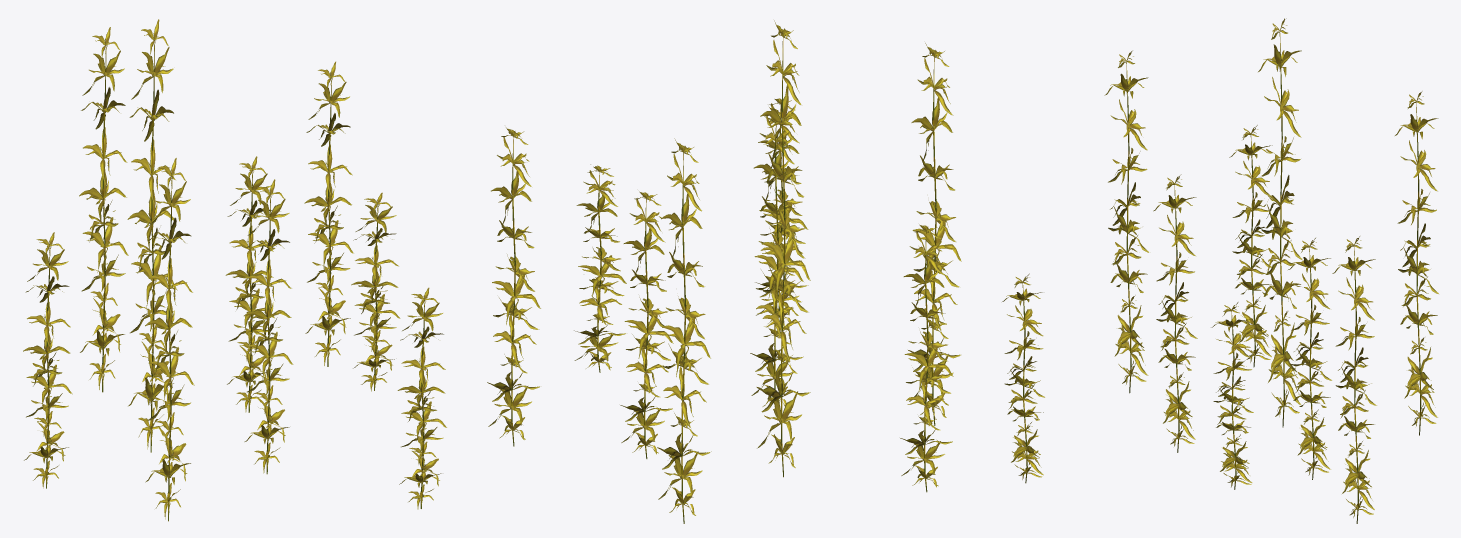
File: seaweed5.obj
The picture shows the model from 3 angles, left to right: view 1: azimuth 30°, elevation 25°; view 2: azimuth 150°, elevation 25°; view 3: azimuth 270°, elevation 25°; orthographic projection. The views are drawn at different scales.
Visible parts, largest first — view 1: Cylinder011, Cylinder012; view 2: Cylinder011, Plane024, Cylinder012; view 3: Cylinder011, Cylinder015, Cylinder012.
Part boxes in pixels (x1,y1,x2,y2): Cylinder011: (150, 40, 154, 452); Cylinder012: (102, 45, 106, 392); Cylinder011: (781, 37, 785, 477); Plane024: (761, 232, 810, 300); Cylinder012: (681, 153, 686, 523); Cylinder011: (1279, 32, 1284, 427); Cylinder015: (1126, 62, 1131, 393); Cylinder012: (1416, 103, 1421, 435).
Bounding box in the file's own units: 153 × 162 × 159.
2 materials, 2 textured.
